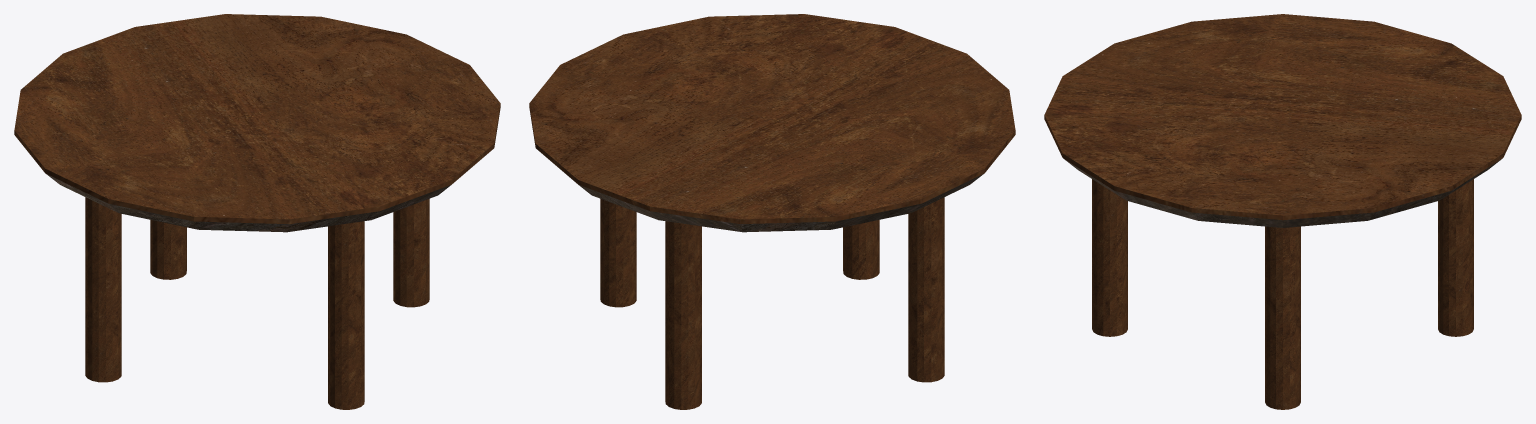
File: LilleBord.fbx
3 views of the same model, side by side, from view 1: azimuth 30°, elevation 25°; view 2: azimuth 150°, elevation 25°; view 3: azimuth 270°, elevation 25° (orthographic). The views are drawn at different scales.
Parts seen in each view (by area): view 1: Cylinder; view 2: Cylinder; view 3: Cylinder.
Boxes of the visible parts, bbox=[...] form: Cylinder: bbox=[14, 14, 500, 409]; Cylinder: bbox=[529, 14, 1015, 409]; Cylinder: bbox=[1044, 14, 1521, 409].
Size of the model in its own units: 121 by 59.94 by 121.
